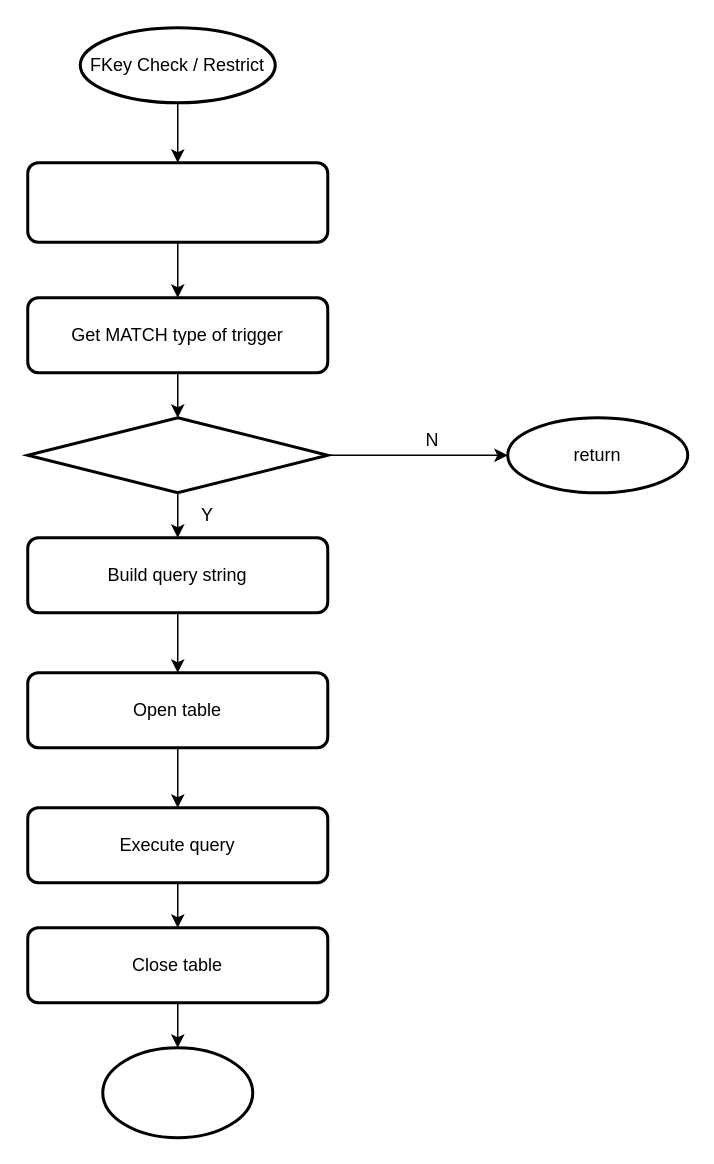
This 714x1164 diagram has some shape labels left out. Each missing label, with the centre of its shape:
"Check RLS?" goes at pixel 177 455.
"Fetch constraint information from pg_constraint catalog" goes at pixel 177 201.
"report and return result" goes at pixel 177 1092.
